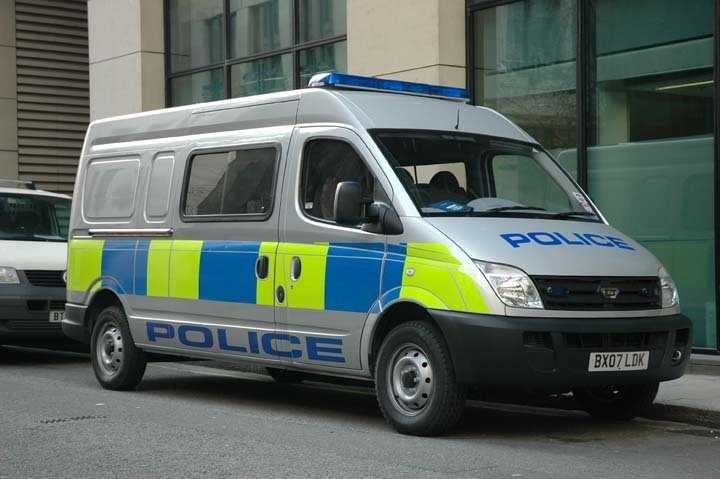Ambulance: (70, 61, 668, 441)
